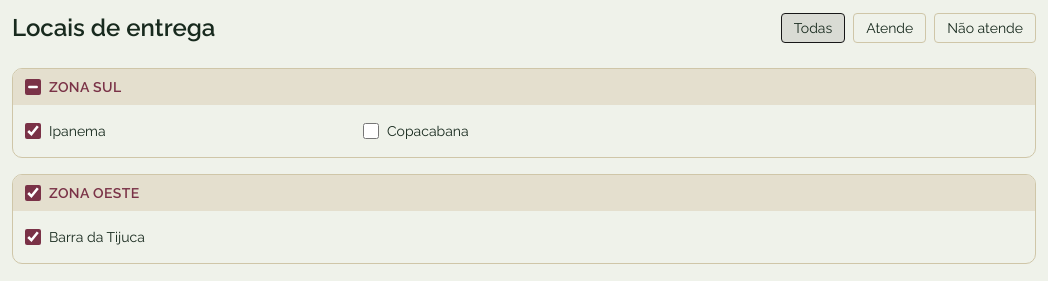
EntregasPage › the "Não atende" filter can leave a region listed with an empty bairro list
This screenshot has width=1048, height=281.
Expected: the text "Barra da Tijuca" is shown, top-left (49, 227), bottom-right (145, 247)
Click the button "Não atende" at point(985, 28), box top-left (934, 13), bottom-right (1036, 43)
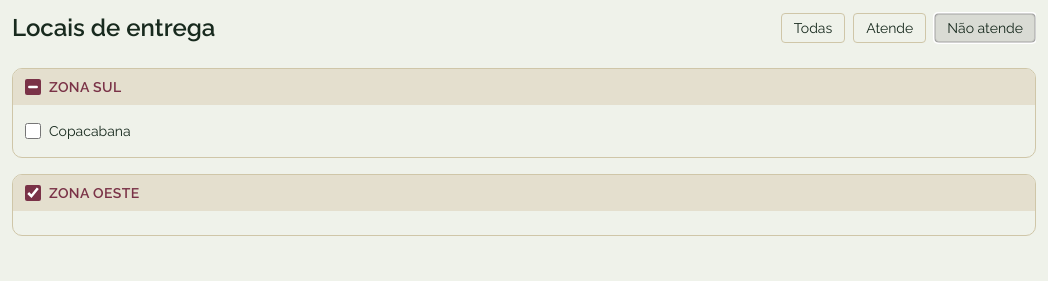
Expected: the heading "Zona Oeste" is shown, top-left (49, 183), bottom-right (140, 203)
Now the text "Barra da Tijuca" is gone
